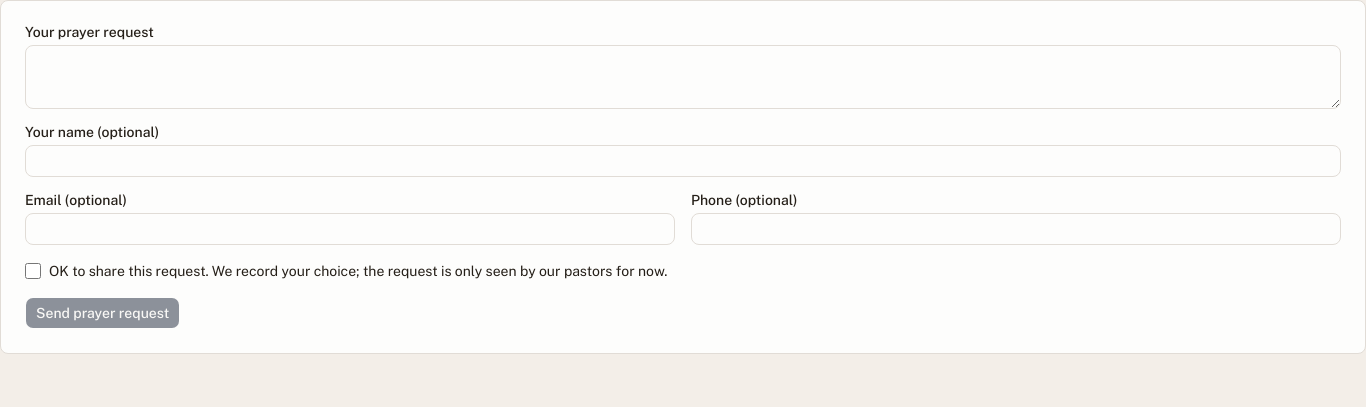
shows a rate-limit error and keeps the form
The width and height of the screenshot is (1366, 407).
Type "Again" into the text box labelled "Your prayer request".
click(683, 77); type("Again")  # box top-left (25, 45), bottom-right (1341, 109)
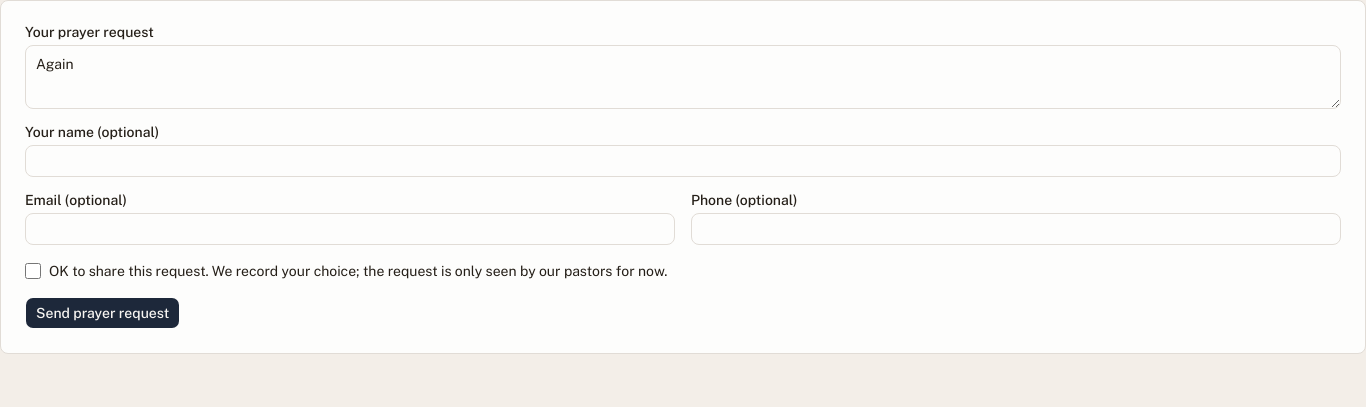
Click the button "Send prayer request".
click(103, 313)  # box top-left (25, 297), bottom-right (180, 329)
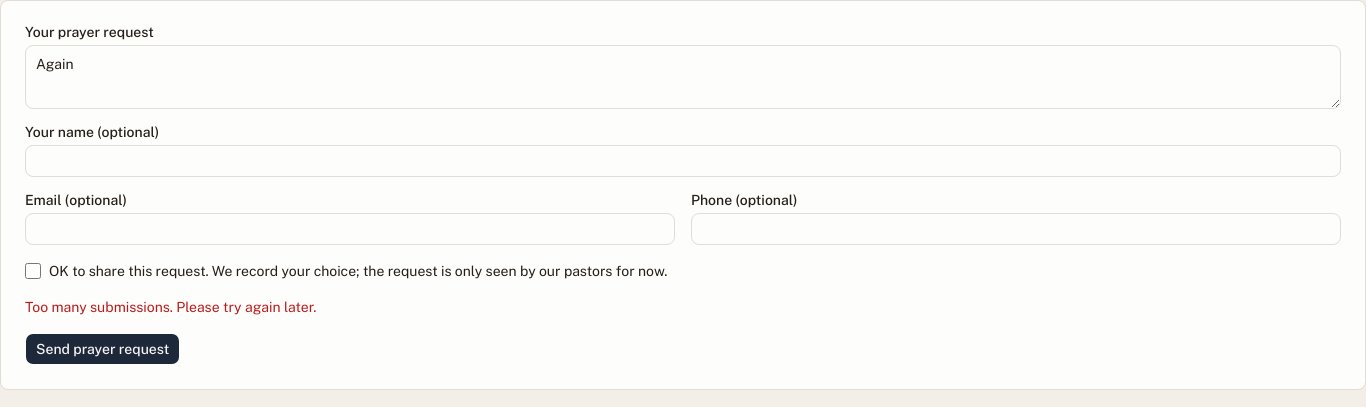
Check: the message shows "Too many submissions", box top-left (25, 299), bottom-right (316, 315)
